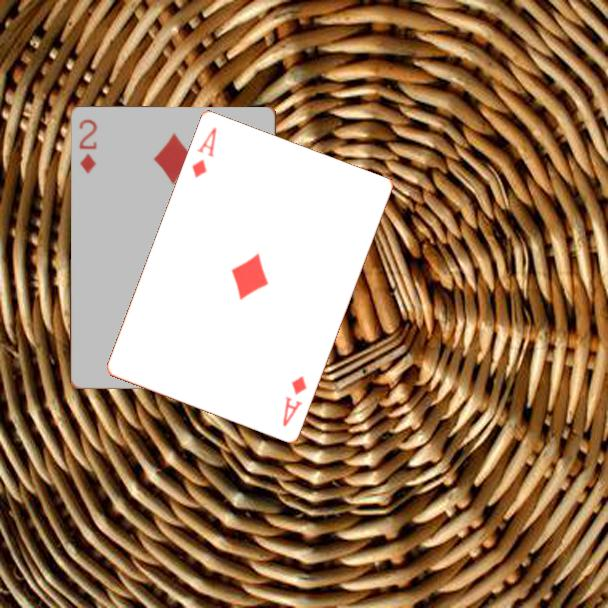d01: (188, 124, 220, 181), (279, 372, 310, 430)
d02: (76, 116, 101, 176)
